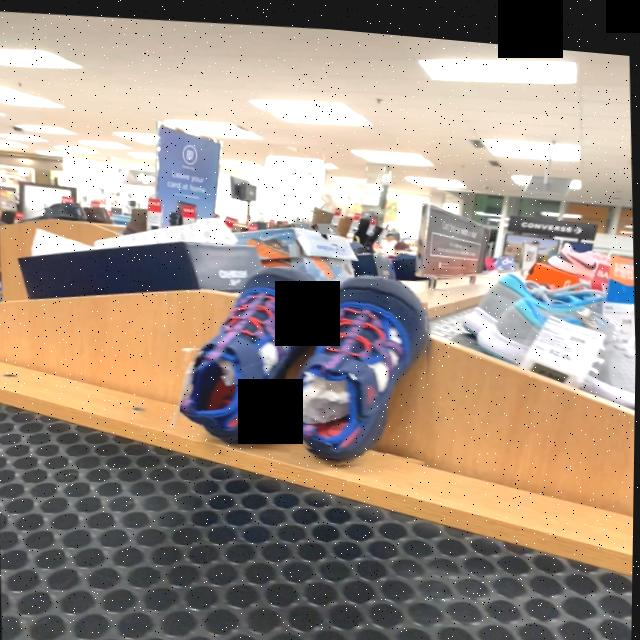shoe: (181, 262, 326, 442), (291, 271, 429, 459)
